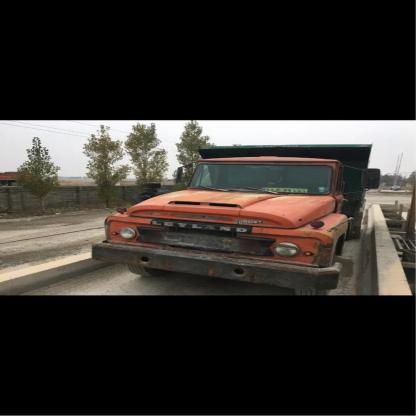Truck: (97, 135, 389, 298)
